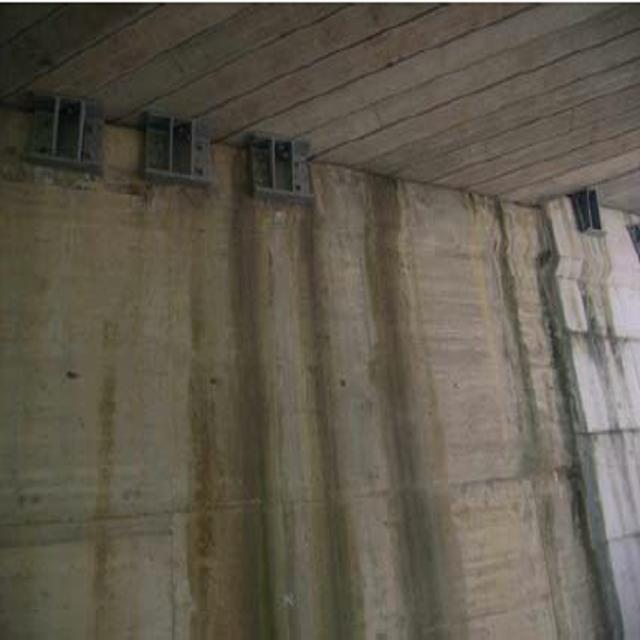leakage: (180, 228, 467, 640)
